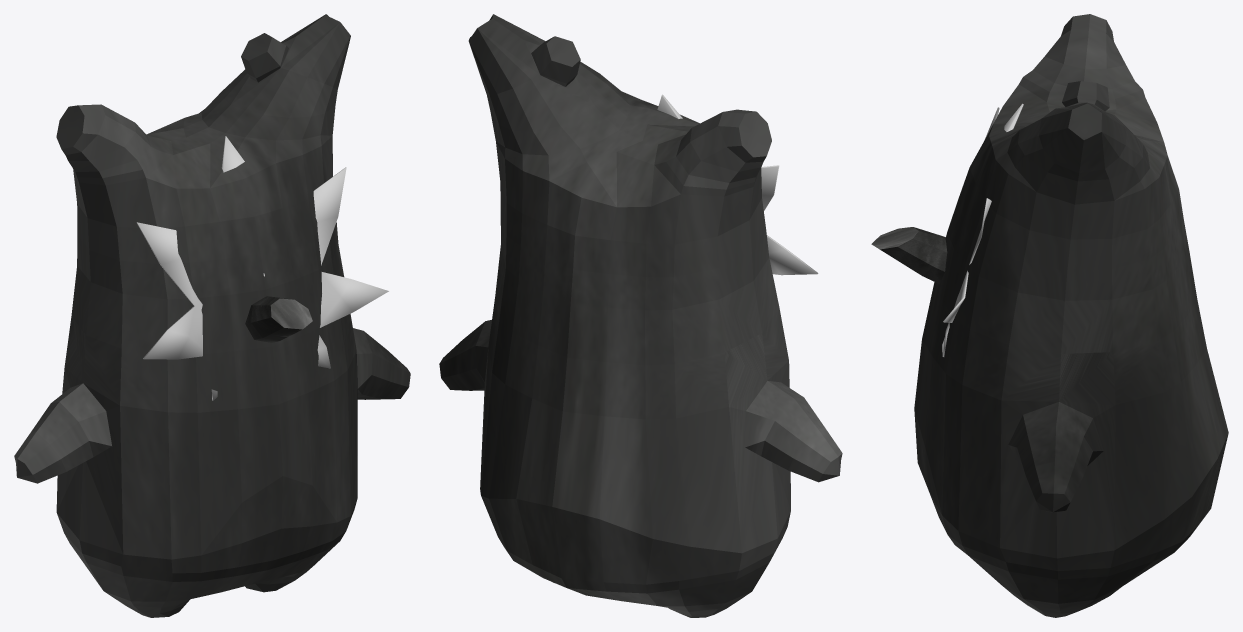
File: frame_0082.obj
The picture shows the model from 3 angles, left to right: view 1: azimuth 30°, elevation 25°; view 2: azimuth 150°, elevation 25°; view 3: azimuth 270°, elevation 25°; orthographic projection. The views are drawn at different scales.
Visible parts, largest first — view 1: korok, leaf.003_柱体.013, nose.003_柱体.011; view 2: korok, leaf.003_柱体.013; view 3: korok, nose.003_柱体.011, leaf.003_柱体.013.
Boxes of the visible parts, x1,y1,x2,y2 form: korok: (14, 14, 410, 617); leaf.003_柱体.013: (136, 136, 388, 400); nose.003_柱体.011: (245, 296, 312, 342); korok: (439, 14, 842, 617); leaf.003_柱体.013: (657, 94, 818, 275); korok: (914, 14, 1228, 617); nose.003_柱体.011: (871, 227, 947, 283); leaf.003_柱体.013: (942, 103, 1023, 356).
Size of the model in its own units: 1.67 by 2.24 by 1.33.
